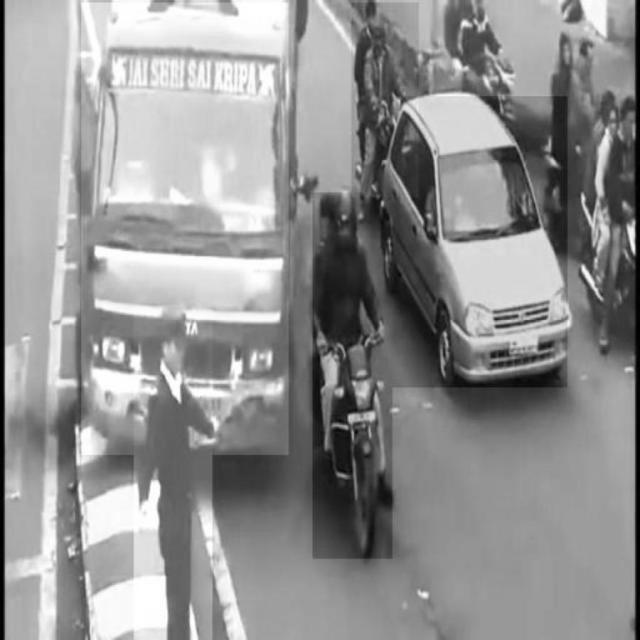person: (134, 305, 212, 640)
vehicle: (82, 2, 289, 456), (383, 97, 568, 388), (312, 193, 393, 559), (351, 3, 418, 198)
